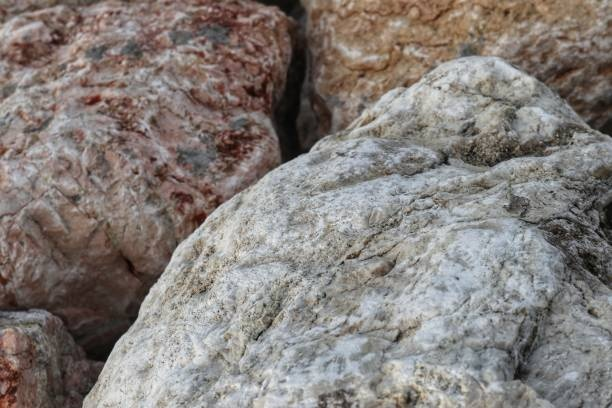obstacle: (84, 57, 611, 406)
